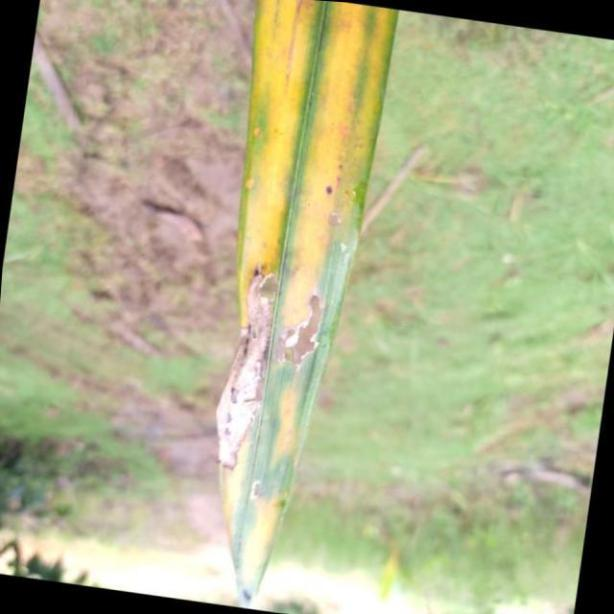Megnesium: (216, 0, 401, 614)
